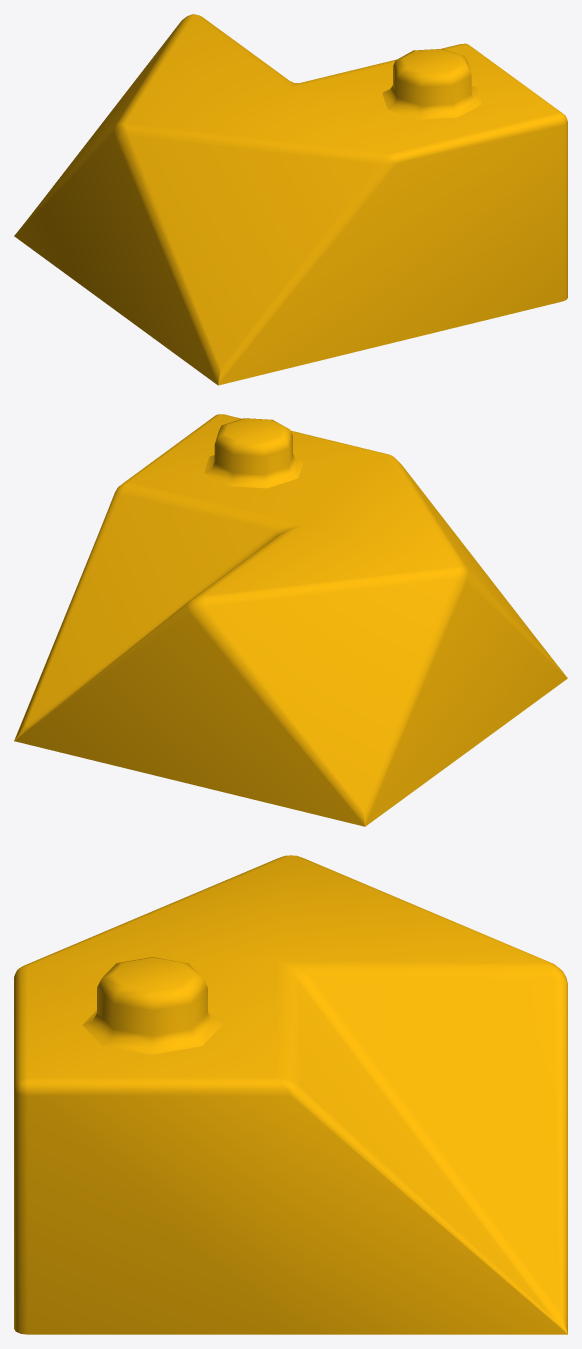
Rendered from Lowered_Corner_Two_Vertex_Bevels_Parallel_Half.fbx.
The picture shows the model from 3 angles, top to bottom: view 1: azimuth 30°, elevation 25°; view 2: azimuth 150°, elevation 25°; view 3: azimuth 270°, elevation 25°; orthographic projection. The views are drawn at different scales.
Parts seen in each view (by area): view 1: Lowered_Corner_Two_Vertex_Bevels_Parallel_Half, Knobs.030; view 2: Lowered_Corner_Two_Vertex_Bevels_Parallel_Half, Knobs.030; view 3: Lowered_Corner_Two_Vertex_Bevels_Parallel_Half, Knobs.030.
Part boxes in pixels (x1=…): Lowered_Corner_Two_Vertex_Bevels_Parallel_Half: x1=14, y1=14, x2=567, y2=385; Knobs.030: x1=382, y1=49, x2=482, y2=119; Lowered_Corner_Two_Vertex_Bevels_Parallel_Half: x1=14, y1=414, x2=567, y2=826; Knobs.030: x1=204, y1=418, x2=303, y2=488; Lowered_Corner_Two_Vertex_Bevels_Parallel_Half: x1=14, y1=855, x2=567, y2=1334; Knobs.030: x1=82, y1=957, x2=222, y2=1054.
Size of the model in its own units: 1 by 0.6 by 1.
